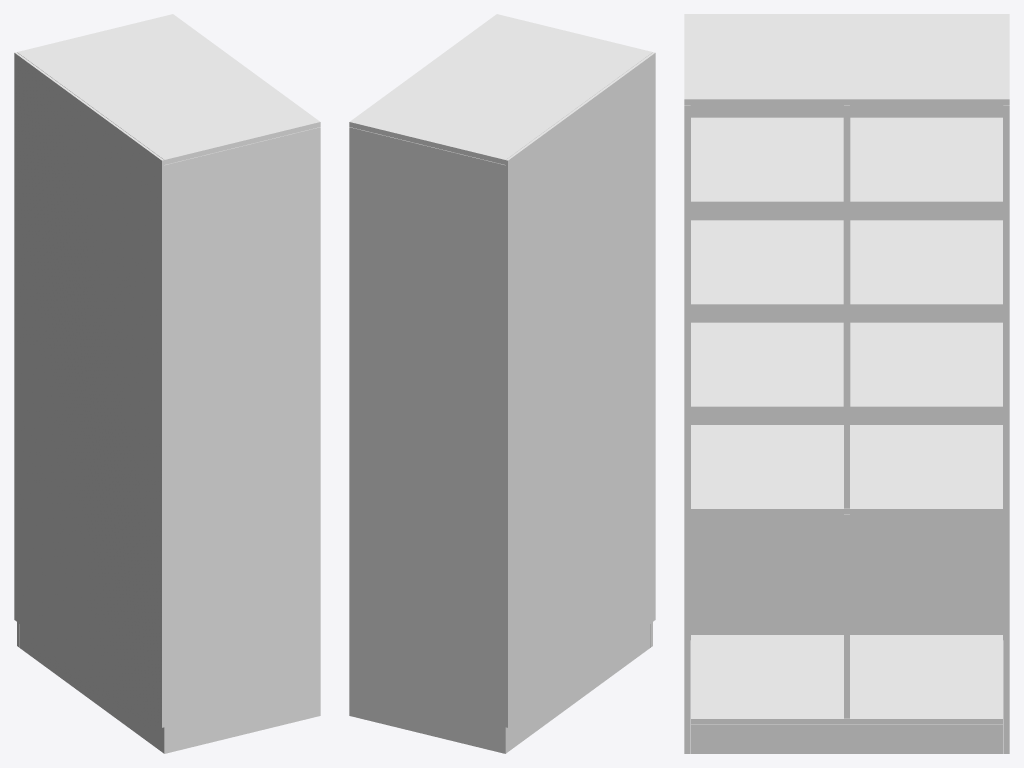
Rendered from glb.glb.
3 renders of one model, left to right at view 1: azimuth 30°, elevation 25°; view 2: azimuth 150°, elevation 25°; view 3: azimuth 270°, elevation 25°, orthographic. The views are drawn at different scales.
Parts seen in each view (by area): view 1: MAIN, BACK; view 2: MAIN, BACK; view 3: MAIN, BACK.
Part boxes in pixels (box(x1,y1,x2,y2)): MAIN: box(17, 14, 320, 753); BACK: box(14, 52, 164, 727); MAIN: box(349, 14, 652, 753); BACK: box(505, 52, 655, 727); MAIN: box(684, 15, 1009, 753); BACK: box(684, 14, 1009, 639).
Bounding box in the file's own units: 0.559 × 2 × 0.9.
2 materials, 2 textured.
